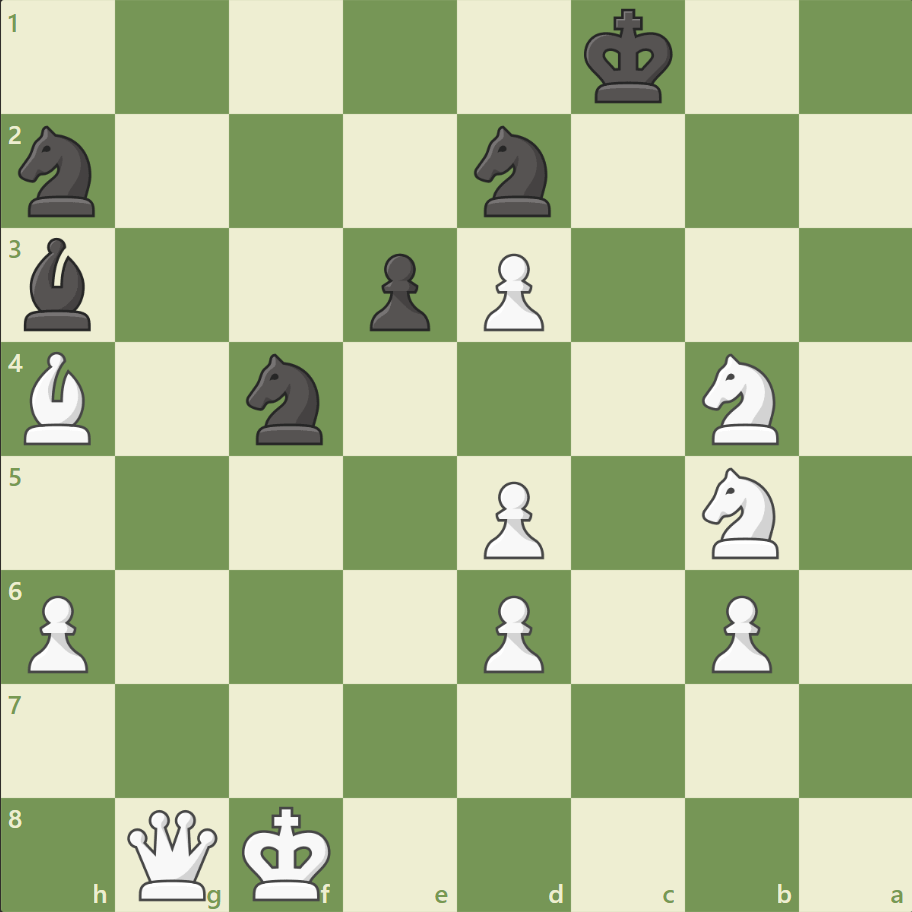B: (17, 347, 101, 449)
K: (238, 798, 338, 906)
N: (692, 461, 789, 564), (692, 348, 789, 450)
P: (701, 586, 776, 677), (474, 586, 549, 677), (20, 586, 95, 677), (474, 473, 549, 564), (474, 246, 549, 337)
Q: (124, 804, 223, 903)
b: (17, 233, 101, 336)
k: (579, 4, 679, 112)
n: (238, 348, 335, 450), (465, 121, 562, 223), (11, 121, 108, 223)
p: (361, 246, 435, 337)
